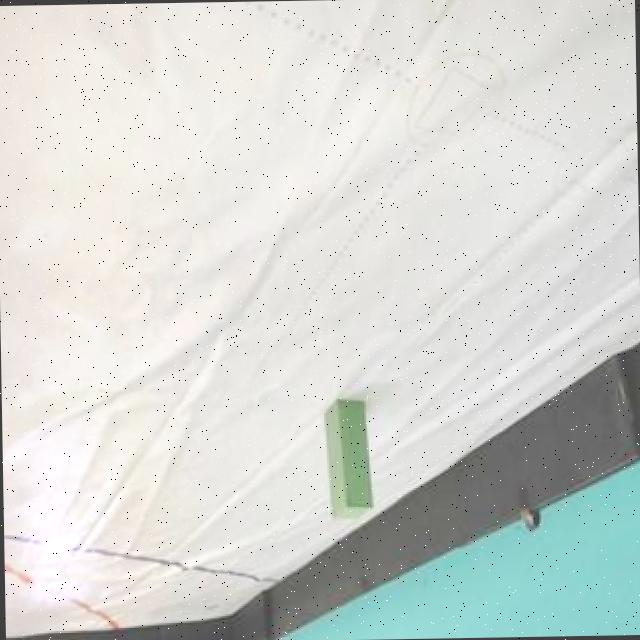greenbox: (322, 399, 372, 518)
